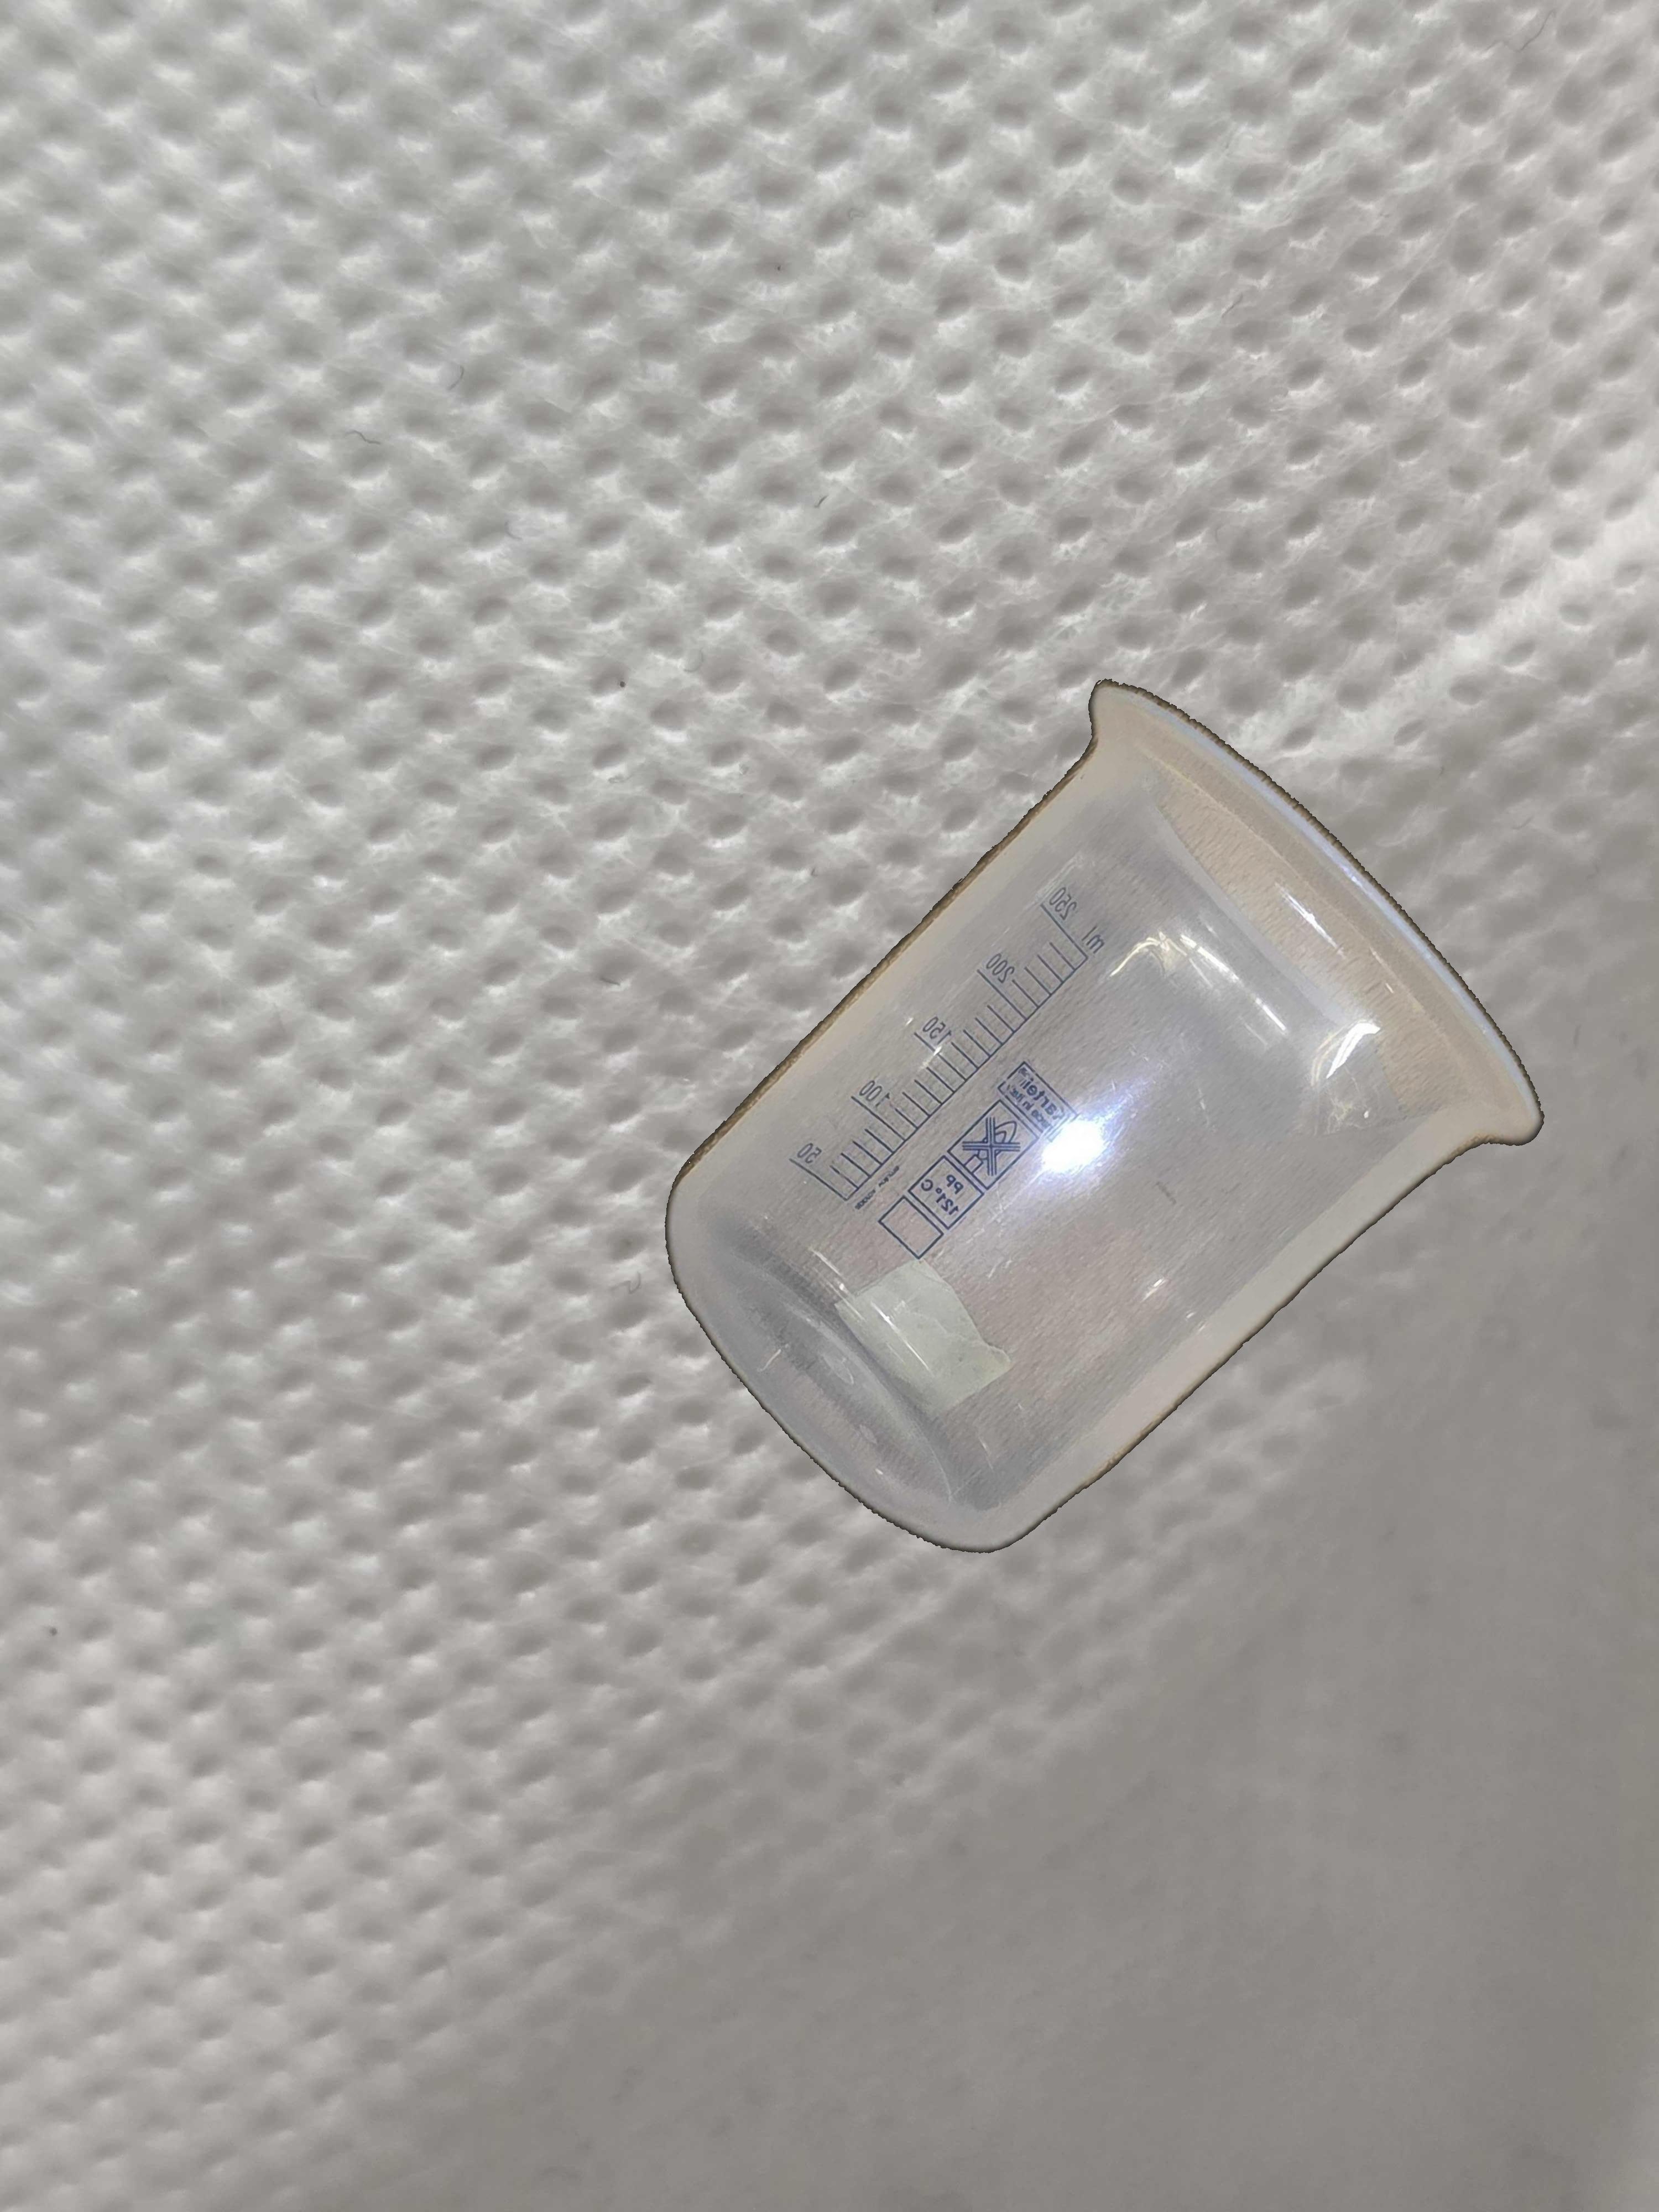becker: (664, 676, 1549, 1555)
